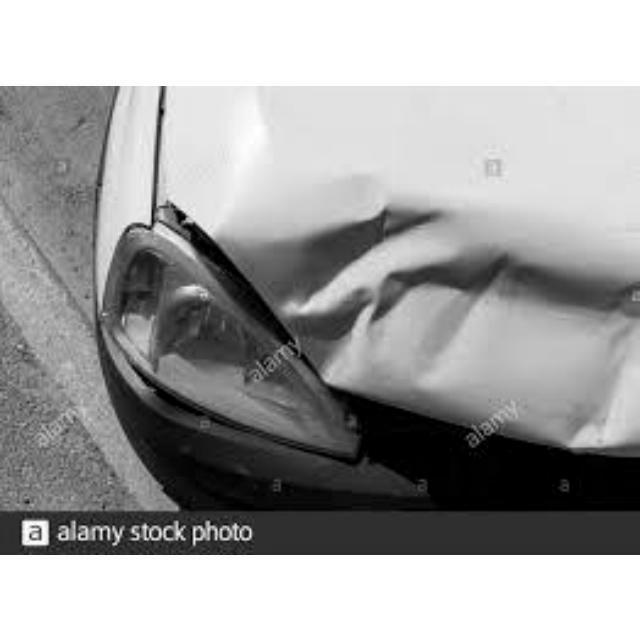Headlight-damage: (71, 202, 349, 458)
bonnet-dent: (177, 88, 638, 398)
